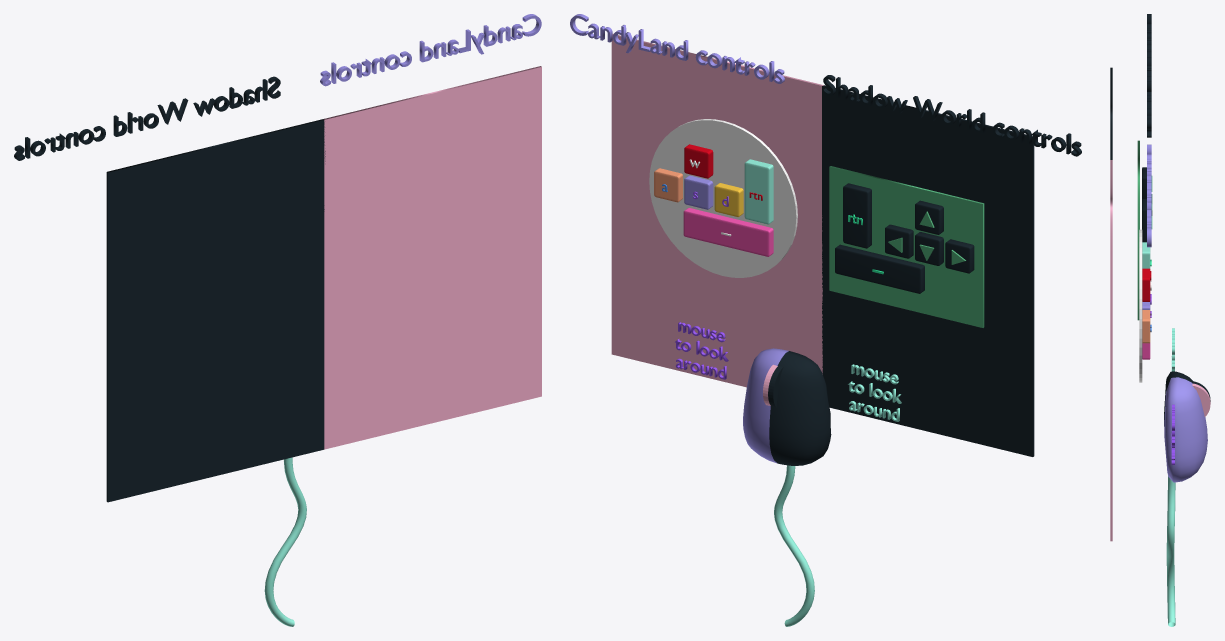
The model's file is 100_Controllers_.fbx.
The picture shows the model from 3 angles, left to right: view 1: azimuth 30°, elevation 25°; view 2: azimuth 150°, elevation 25°; view 3: azimuth 270°, elevation 25°; orthographic projection. The views are drawn at different scales.
Visible parts, largest first — view 1: dot.045, dot.023, dress me.108, dress me.107, BézierCurve.001; view 2: dot.045, dot.023, dot.022, BUTTON8.001, Cube.045, dress me.108, Cube.024, Cube.043, dress me.107, Cube.025, Cube.044, BézierCurve.001 (+10 smaller); view 3: Cube.045, BézierCurve.001, dot.023, dress me.108, BUTTON8.001, dot.022, dress me.107, BUTTON7.001, Cube.020, Cube.022, dot.045, Cube.025 (+2 smaller).
Part boxes in pixels (x1,y1,x2,y2): dot.045: (106,119,325,502); dot.023: (323,66,541,449); dress me.108: (14,76,280,160); dress me.107: (320,14,541,86); BézierCurve.001: (264,457,306,626); dot.045: (822,85,1034,456); dot.023: (611,34,823,387); dot.022: (829,166,984,327); BUTTON8.001: (649,119,797,277); Cube.045: (743,348,831,465); dress me.108: (823,75,1081,156); Cube.024: (683,208,773,256); Cube.043: (835,244,924,293); dress me.107: (570,14,784,83); Cube.025: (744,159,773,224); Cube.044: (843,183,871,248); BézierCurve.001: (774,465,814,626); Cube.045: (1164,371,1207,482); BézierCurve.001: (1166,476,1175,626); dot.023: (1110,160,1112,541); dress me.108: (1147,14,1151,137); BUTTON8.001: (1139,229,1142,382); dot.022: (1137,140,1139,320); dress me.107: (1147,144,1151,247); BUTTON7.001: (1192,381,1210,416); Cube.020: (1142,268,1150,301); Cube.022: (1142,310,1150,343); dot.045: (1110,67,1112,159); Cube.025: (1142,242,1150,268).
Size of the model in its own units: 606 by 623 by 114.
